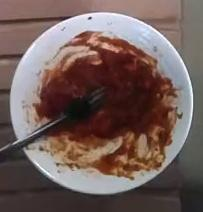pasta: (35, 31, 176, 178)
